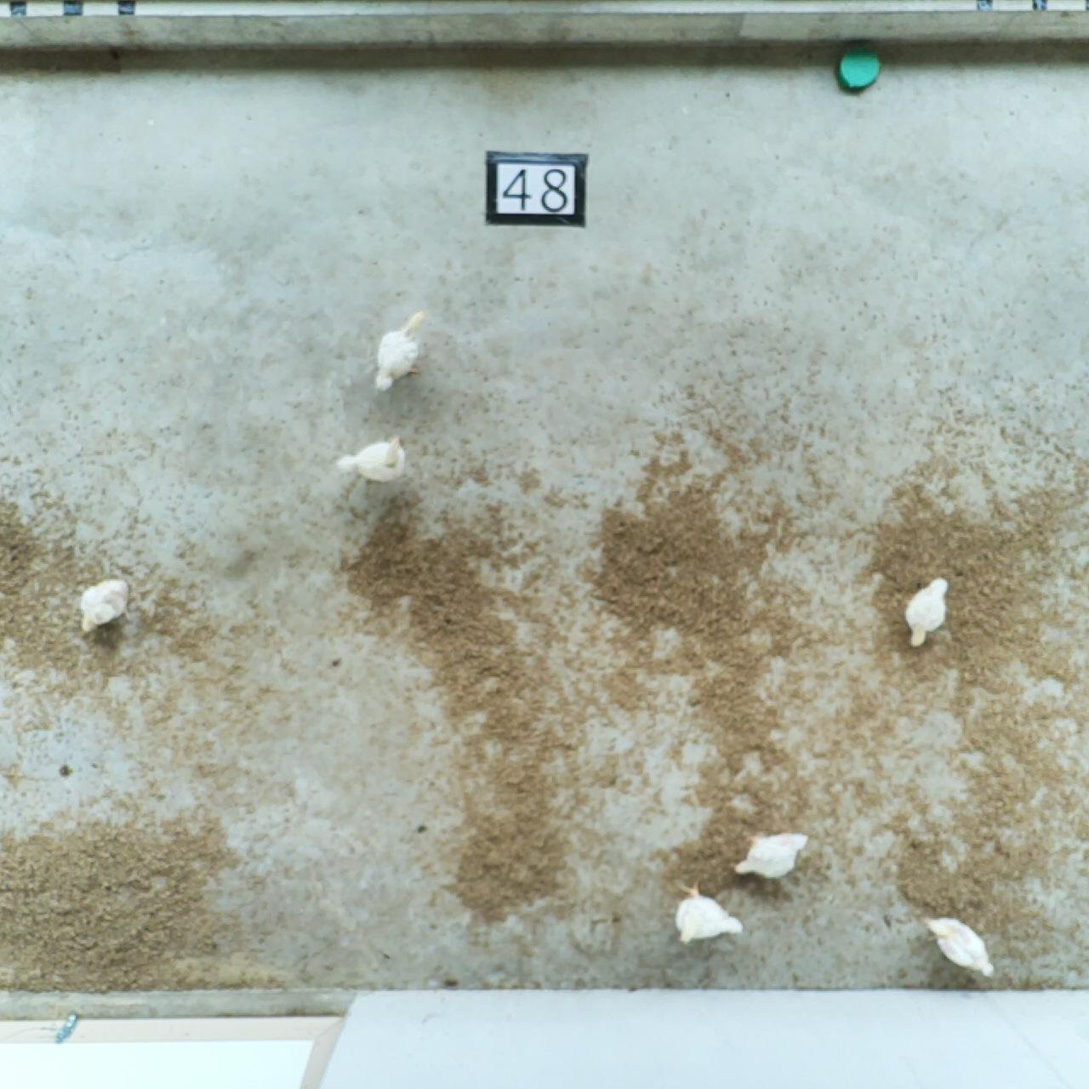chicken: (912, 905, 1002, 982), (667, 875, 748, 948), (371, 304, 433, 396), (731, 823, 814, 884), (333, 430, 412, 486), (900, 572, 954, 653), (76, 573, 135, 637)
